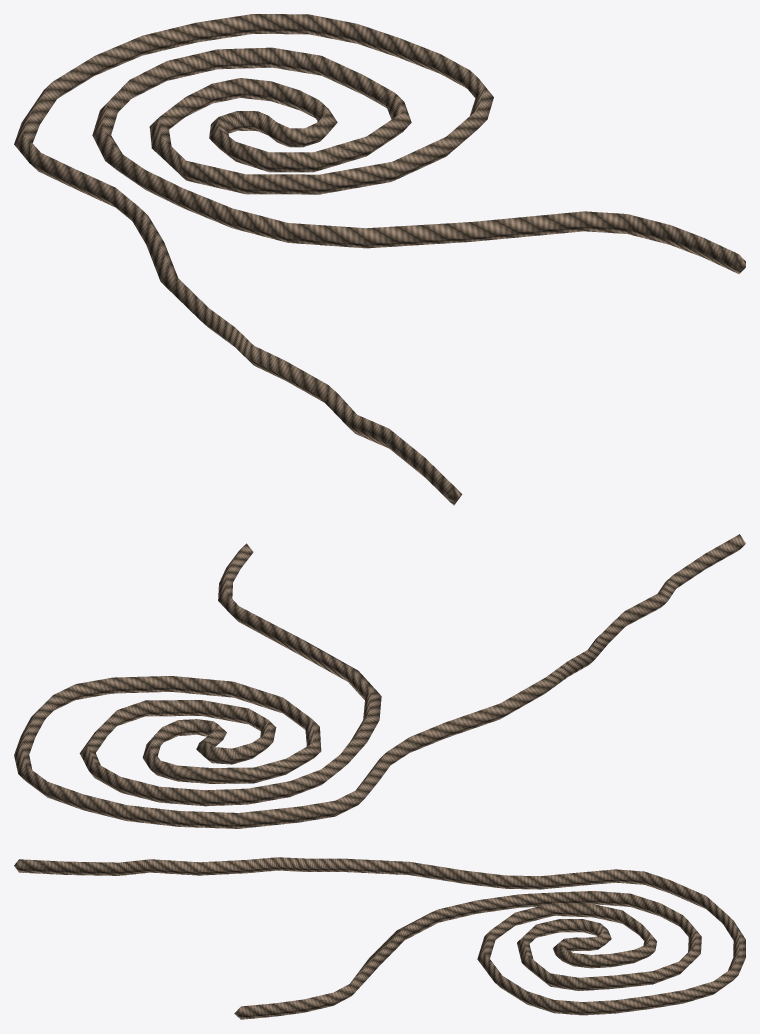
File: Rope.FBX
3 renders of one model, top to bottom at view 1: azimuth 30°, elevation 25°; view 2: azimuth 150°, elevation 25°; view 3: azimuth 270°, elevation 25°, orthographic. The views are drawn at different scales.
Parts seen in each view (by area): view 1: Mesh; view 2: Mesh; view 3: Mesh.
Part boxes in pixels (left/top/right/bottom): Mesh: left=14, top=14, right=745, bottom=505; Mesh: left=14, top=534, right=745, bottom=828; Mesh: left=14, top=857, right=745, bottom=1019.
Size of the model in its own units: 102 by 204 by 5.15.
